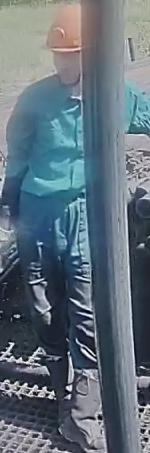gloves: (0, 219, 16, 254)
helmet: (41, 2, 83, 53)
vest: (0, 72, 88, 214)
